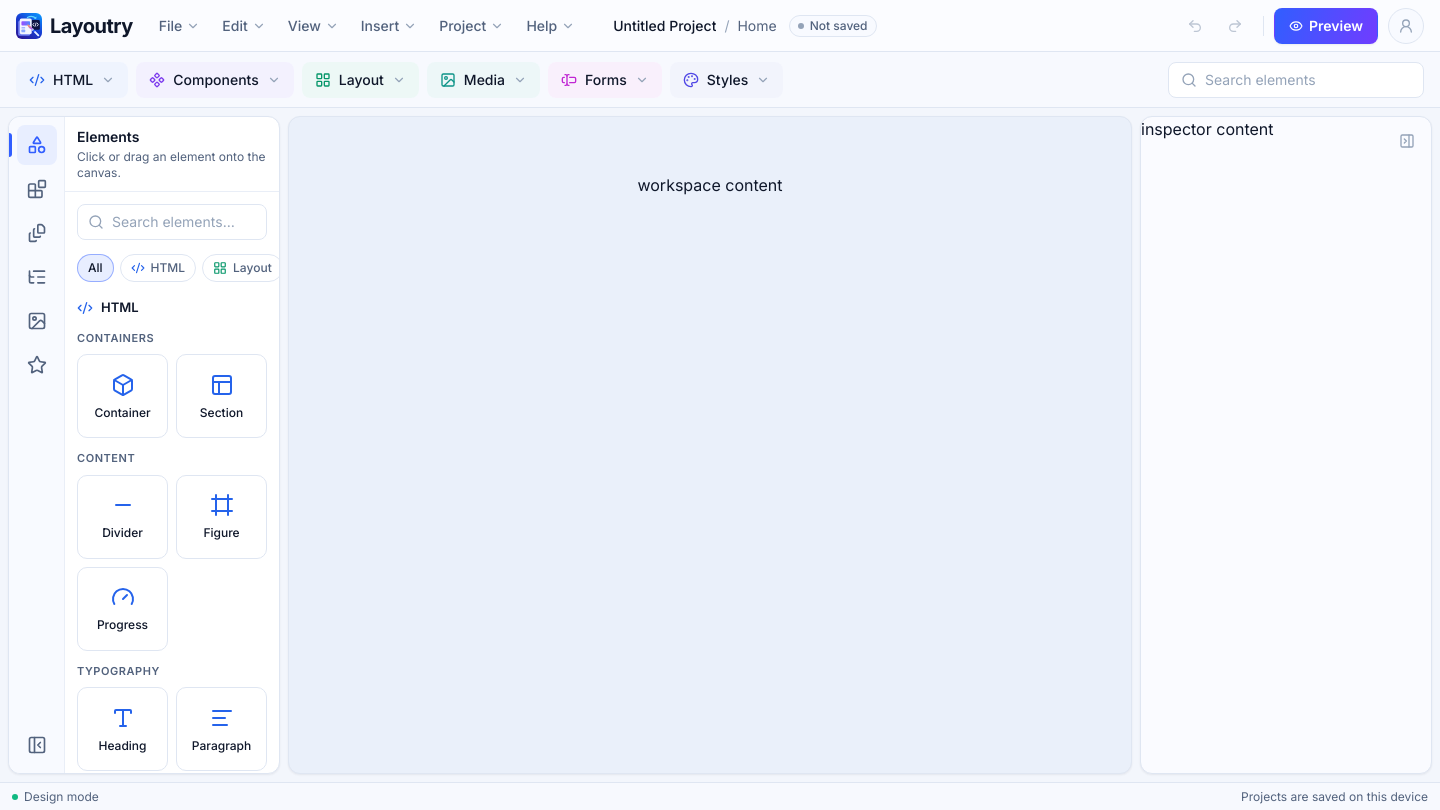
AppShell › restores a hidden panel by toggling it again from the View menu
This screenshot has width=1440, height=810.
Step 1. Click the menu item "View" → click(313, 26), box [278,10,349,42]
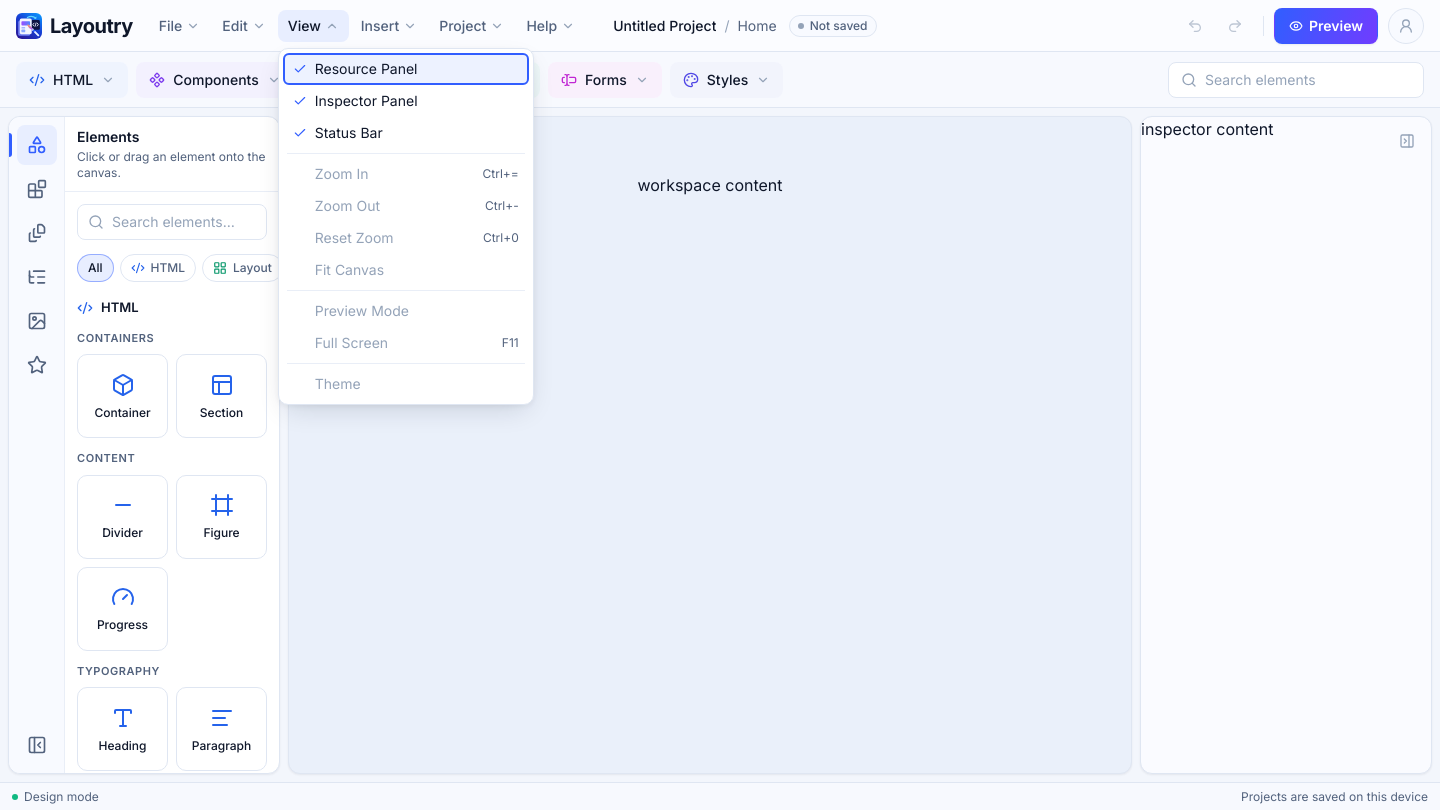
Step 2. Click the menu item "Status Bar" → click(406, 132), box [283,116,529,148]
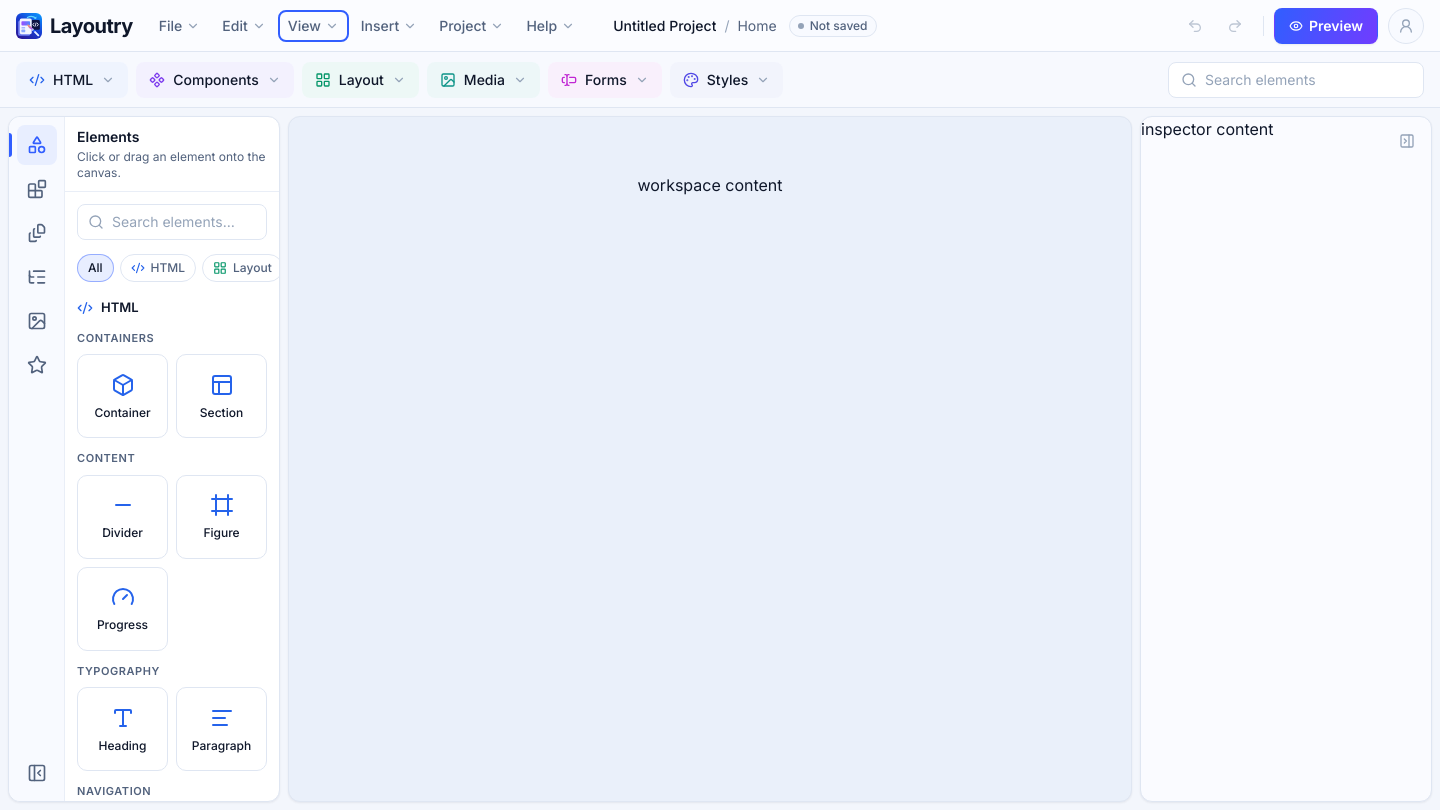
Result: the menu item "Status Bar" is gone
Step 3. Click the menu item "View" → click(313, 26), box [278,10,349,42]
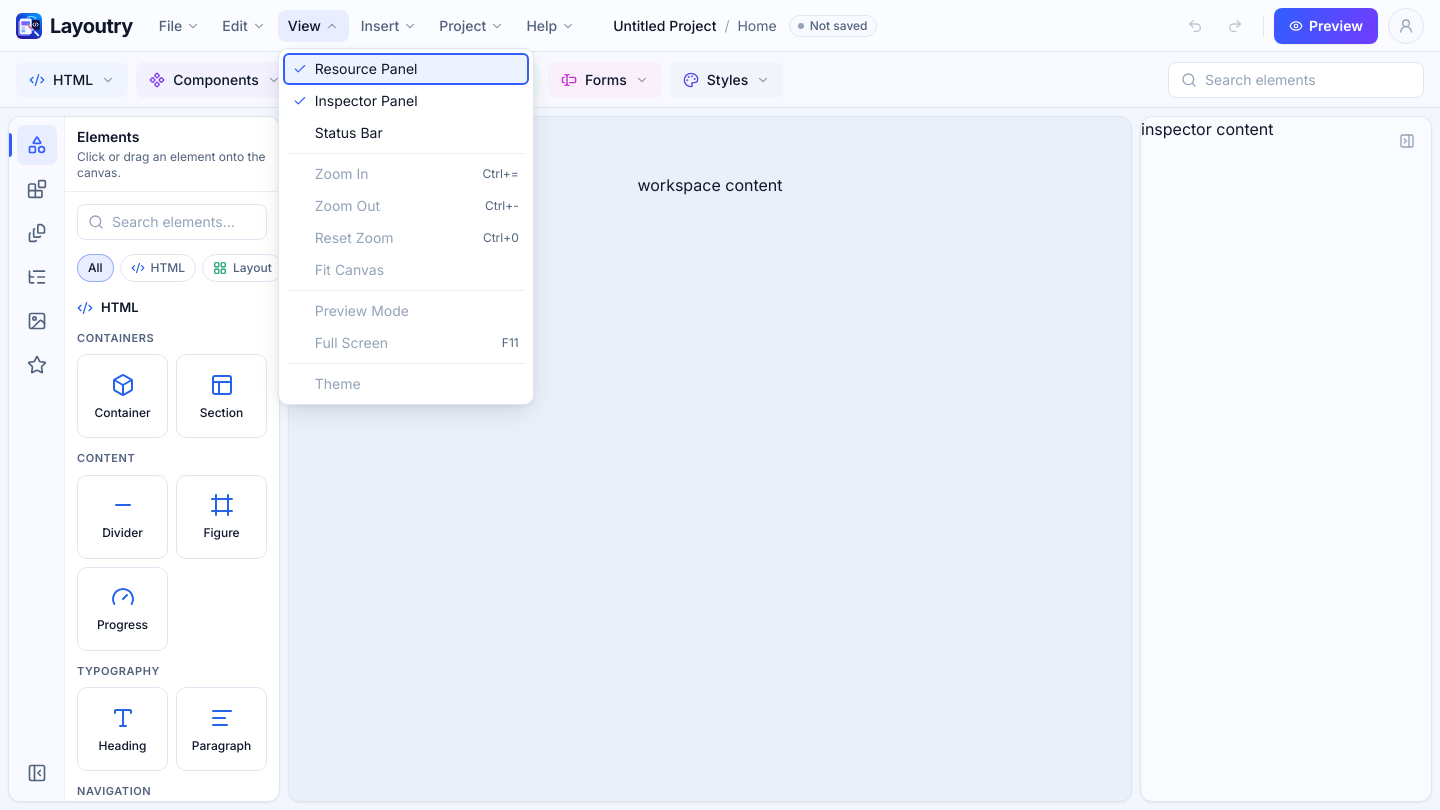
Step 4. Click the menu item "Status Bar" → click(406, 132), box [283,116,529,148]
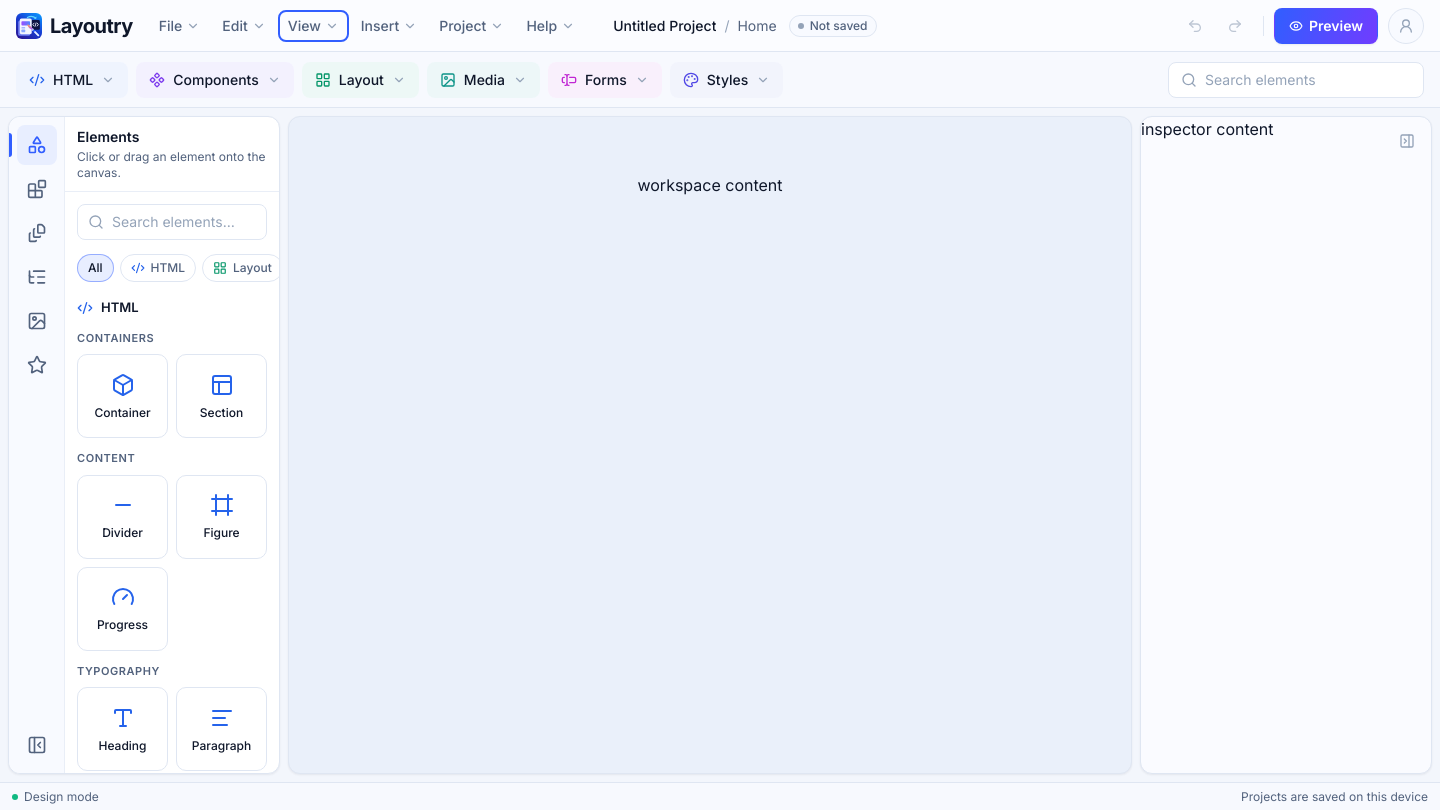
Result: the footer named "Status bar" is shown at [0,782,1439,809]
